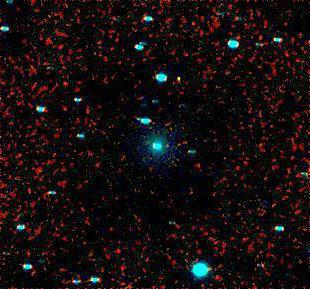star: (167, 65, 197, 95)
